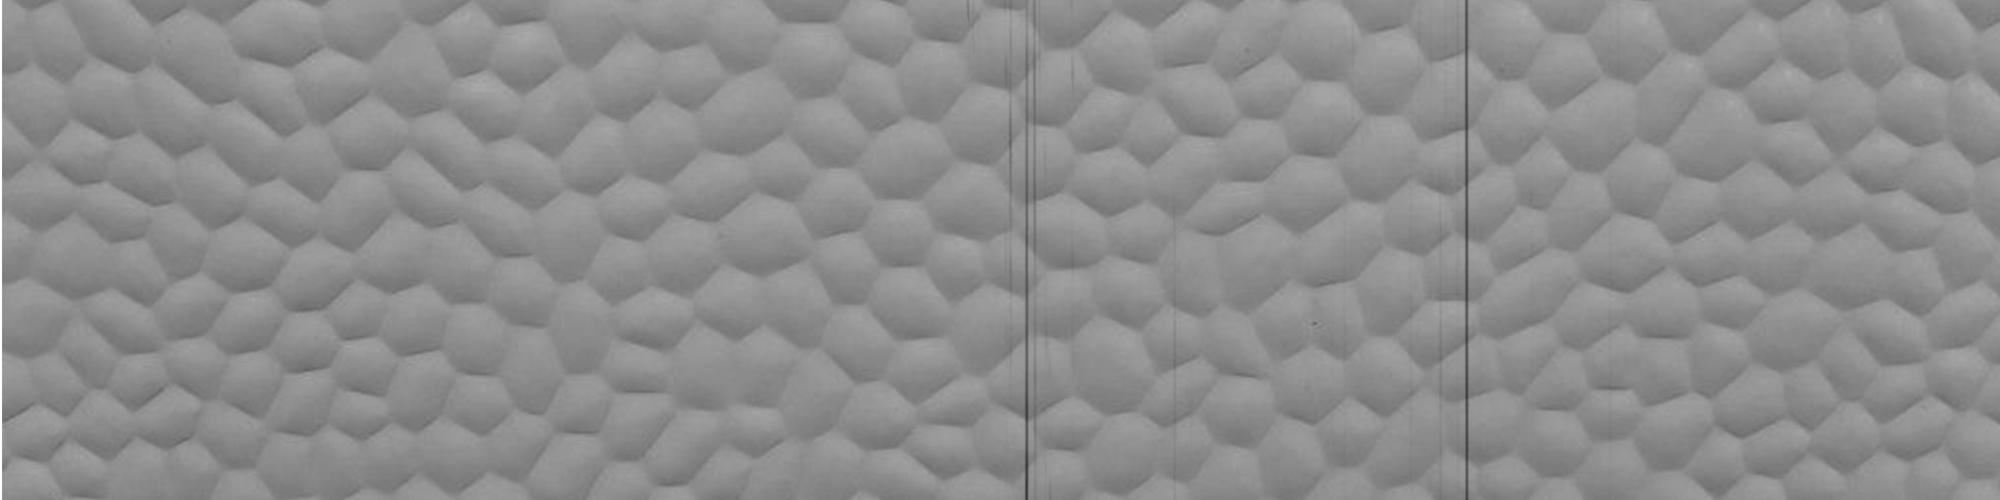DieDrag: (959, 1, 1079, 500), (1404, 5, 1483, 500), (1148, 173, 1196, 500)
